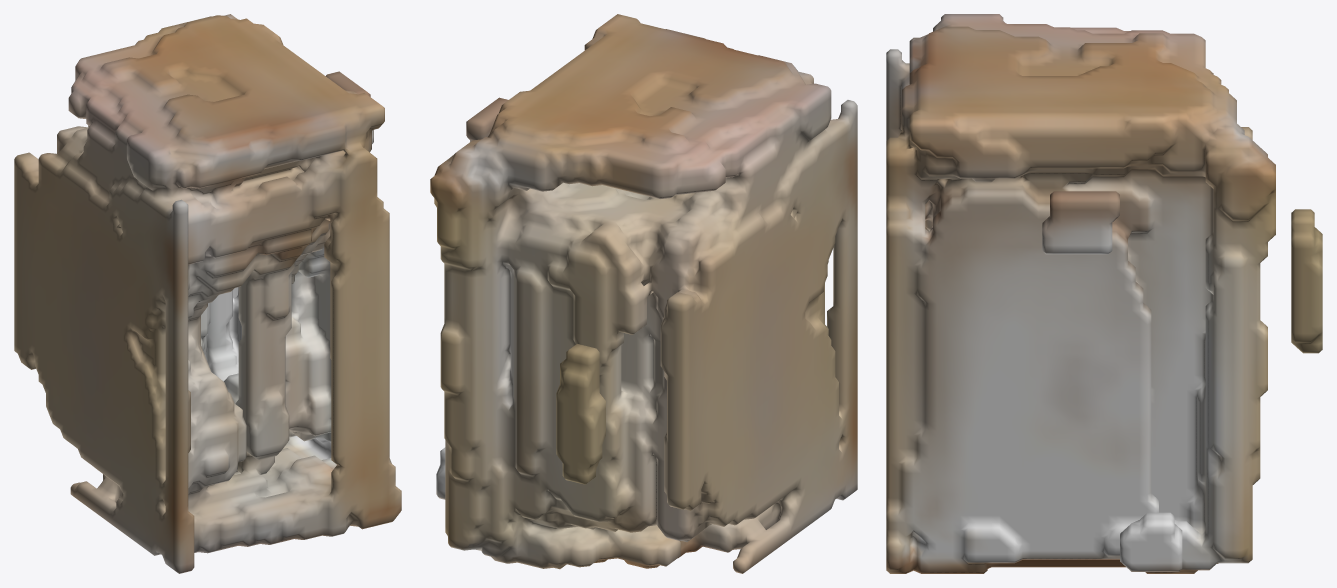
Rendered from Round table top either tightly covered or made out.glb.
3 views of the same model, side by side, from view 1: azimuth 30°, elevation 25°; view 2: azimuth 150°, elevation 25°; view 3: azimuth 270°, elevation 25° (orthographic). The views are drawn at different scales.
Parts seen in each view (by area): view 1: Round table top either tightly covered or made out; view 2: Round table top either tightly covered or made out; view 3: Round table top either tightly covered or made out.
Boxes of the visible parts, x1=… form: Round table top either tightly covered or made out: x1=14, y1=14, x2=401, y2=573; Round table top either tightly covered or made out: x1=430, y1=14, x2=857, y2=573; Round table top either tightly covered or made out: x1=886, y1=14, x2=1322, y2=573.
Size of the model in its own units: 44 by 64 by 56.
